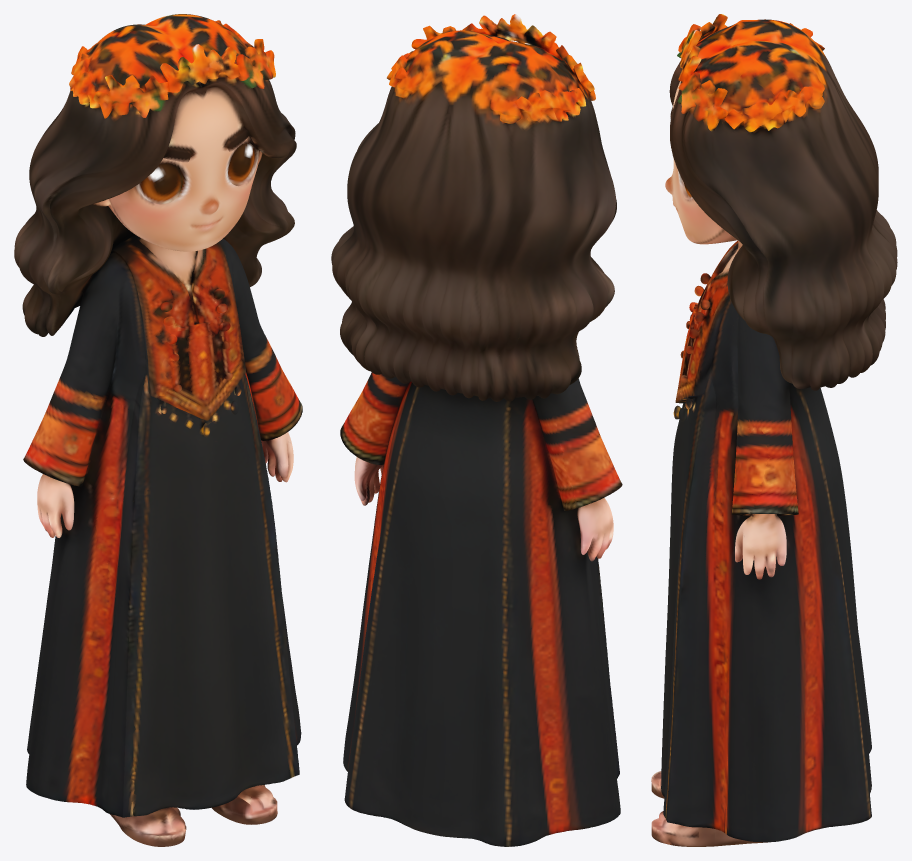
File: base_basic_shaded.fbx
3 views of the same model, side by side, from view 1: azimuth 30°, elevation 25°; view 2: azimuth 150°, elevation 25°; view 3: azimuth 270°, elevation 25° (orthographic).
Parts seen in each view (by area): view 1: model; view 2: model; view 3: model.
Boxes of the visible parts, left/top/right/bottom form: model: left=14, top=14, right=302, bottom=846; model: left=331, top=14, right=622, bottom=846; model: left=651, top=14, right=897, bottom=846.
Bounding box in the file's own units: 64.42 × 177 × 50.3.
